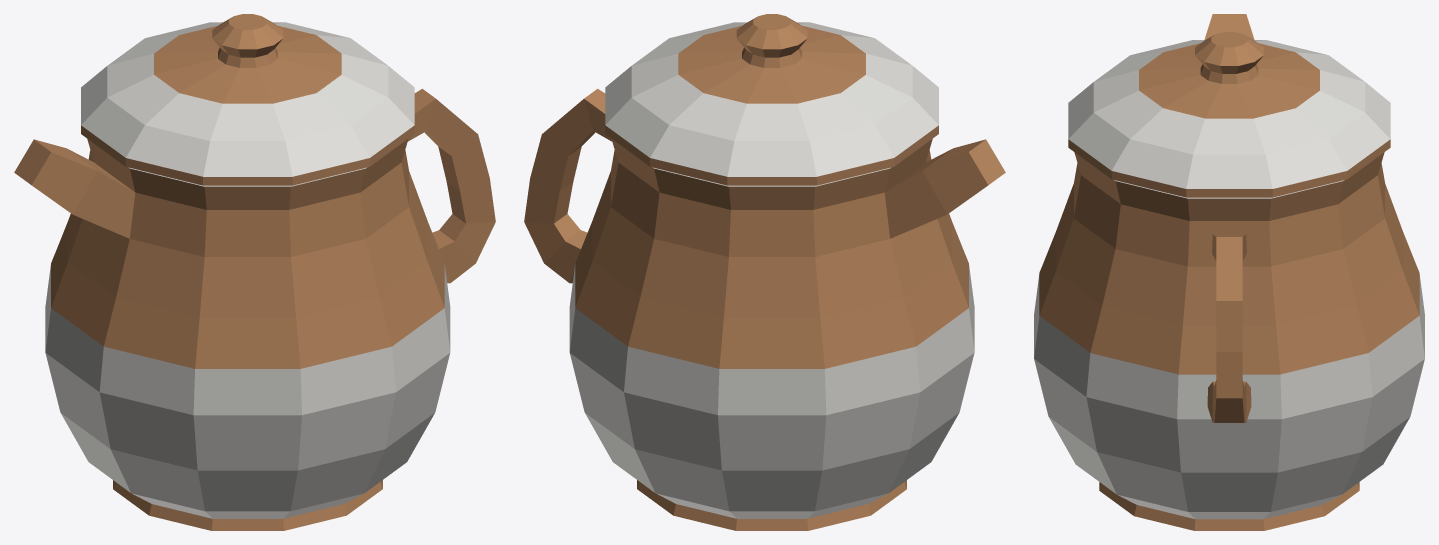
The model's file is jarra.fbx.
The picture shows the model from 3 angles, left to right: view 1: azimuth 30°, elevation 25°; view 2: azimuth 150°, elevation 25°; view 3: azimuth 270°, elevation 25°; orthographic projection. The views are drawn at different scales.
Visible parts, largest first — view 1: jarra, jarra_tapa; view 2: jarra, jarra_tapa; view 3: jarra, jarra_tapa.
Boxes of the visible parts, box(x1,y1,x2,y2) form: jarra: box(14, 88, 495, 530); jarra_tapa: box(81, 14, 414, 185); jarra: box(524, 88, 1005, 530); jarra_tapa: box(605, 14, 938, 185); jarra: box(1034, 14, 1424, 530); jarra_tapa: box(1068, 32, 1390, 197).
Bounding box in the file's own units: 27.74 × 26 × 20.86.
